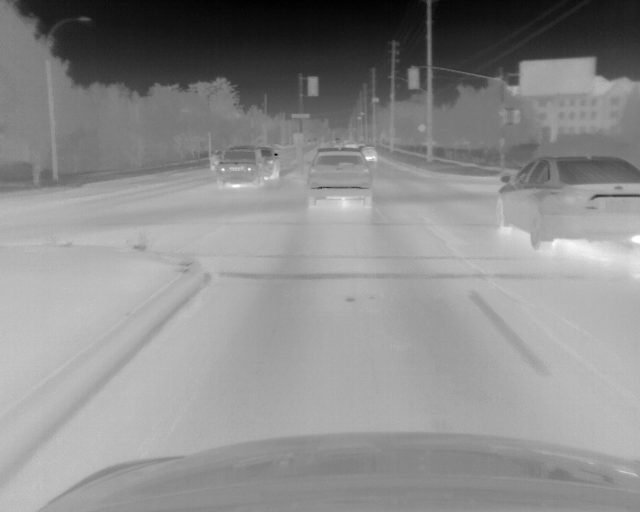car: (493, 154, 640, 251), (308, 147, 373, 210), (218, 147, 264, 187), (260, 146, 282, 181), (362, 148, 378, 161)
